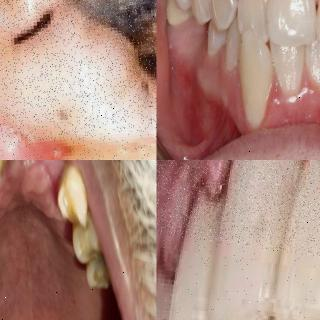Gum Swelling: (157, 160, 231, 266)
calculus: (57, 170, 89, 226), (70, 216, 90, 276), (90, 250, 110, 290), (0, 160, 8, 190)
cavities: (1, 0, 157, 143)
maligned: (233, 27, 283, 132), (233, 0, 272, 38)
